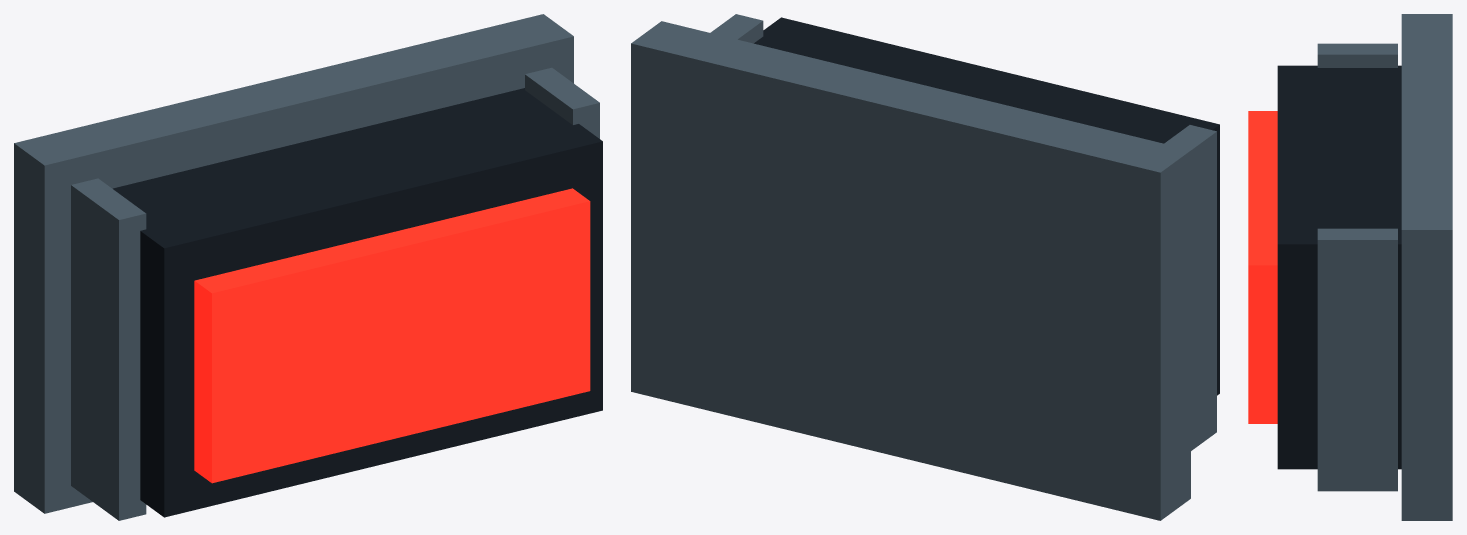
3 renders of one model, left to right at view 1: azimuth 30°, elevation 25°; view 2: azimuth 150°, elevation 25°; view 3: azimuth 270°, elevation 25°, orthographic. The views are drawn at different scales.
Visible parts, largest first — view 1: P16-02; view 2: P16-02; view 3: P16-02.
Part boxes in pixels (bbox=[...]): P16-02: bbox=[14, 14, 602, 520]; P16-02: bbox=[631, 14, 1219, 520]; P16-02: bbox=[1248, 14, 1452, 520].
Size of the model in its own units: 0.35 by 0.22 by 0.14.
